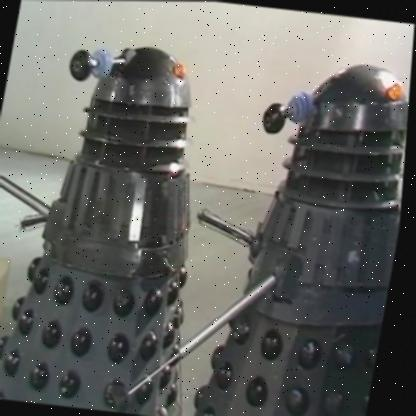dalek: (0, 18, 266, 416), (149, 32, 414, 416)
